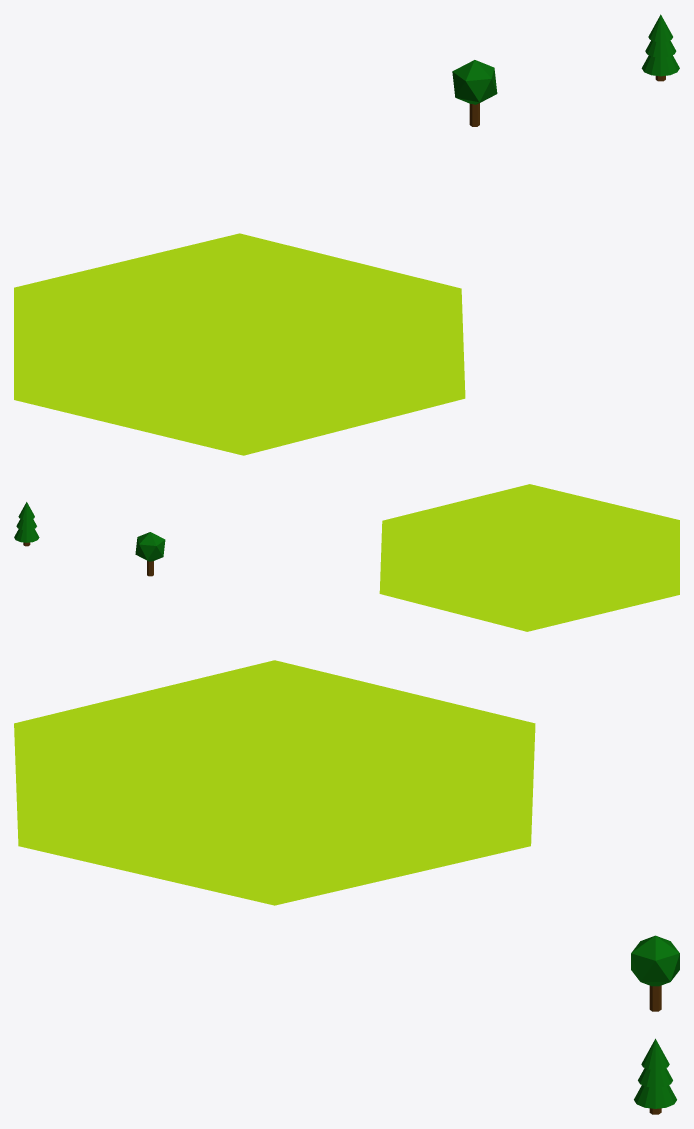
The model's file is Tatles1.fbx_Titel_Zemla_V2_001.fbx.
3 renders of one model, top to bottom at view 1: azimuth 30°, elevation 25°; view 2: azimuth 150°, elevation 25°; view 3: azimuth 270°, elevation 25°, orthographic. The views are drawn at different scales.
Parts seen in each view (by area): view 1: 6 granik.001, Dub, Elka; view 2: 6 granik.001, Dub, Elka; view 3: 6 granik.001, Dub, Elka.
Part boxes in pixels (left/top/right/bottom): 6 granik.001: left=14, top=233, right=465, bottom=455; Dub: left=452, top=60, right=497, bottom=126; Elka: left=641, top=14, right=679, bottom=81; 6 granik.001: left=379, top=484, right=679, bottom=631; Dub: left=135, top=532, right=165, bottom=576; Elka: left=14, top=502, right=39, bottom=546; 6 granik.001: left=14, top=660, right=535, bottom=905; Dub: left=631, top=935, right=679, bottom=1011; Elka: left=634, top=1038, right=676, bottom=1114.
Size of the model in its own units: 33.8 by 2.54 by 20.66.
